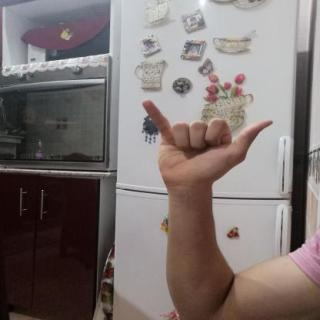YA: (127, 94, 282, 195)
